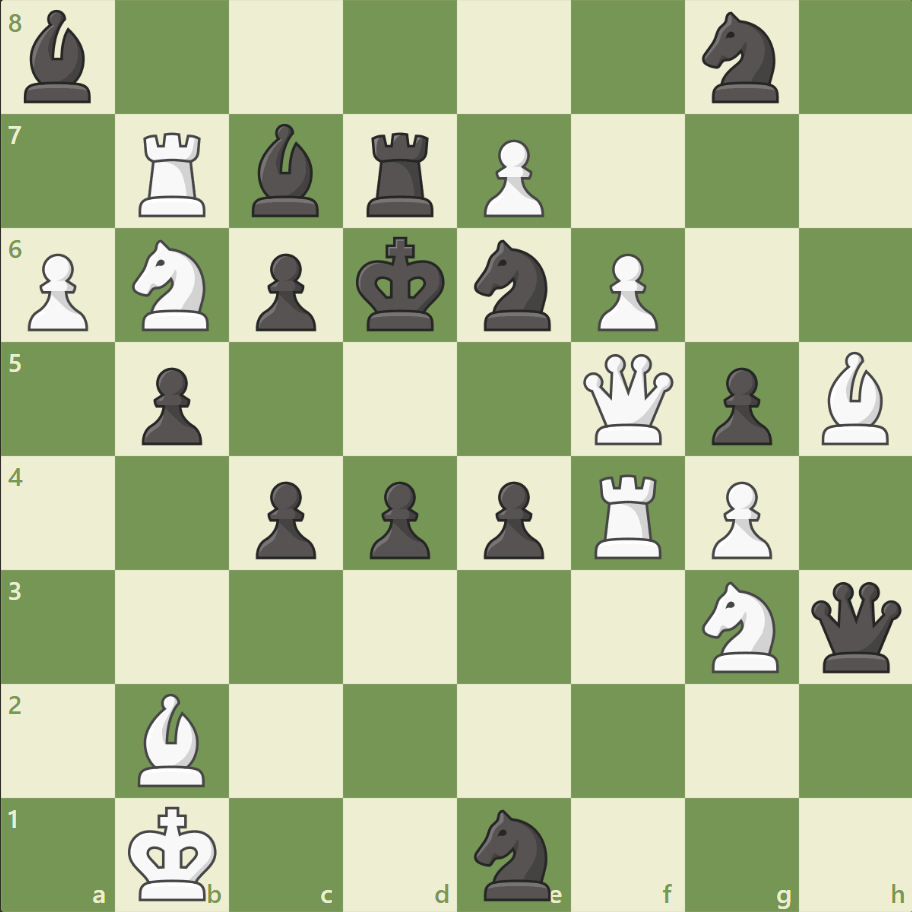B: (131, 687, 215, 790), (812, 347, 896, 449)
K: (124, 798, 224, 906)
N: (124, 234, 222, 337), (692, 575, 789, 677)
P: (474, 132, 549, 223), (20, 246, 95, 337), (701, 473, 776, 564), (588, 246, 662, 337)
Q: (578, 349, 677, 449)
R: (587, 466, 670, 563), (133, 125, 215, 222)
b: (17, 6, 101, 109), (244, 120, 328, 222)
k: (351, 231, 451, 339)
n: (692, 7, 789, 110), (465, 234, 562, 337), (465, 802, 562, 904)
p: (247, 246, 322, 337), (133, 359, 208, 450), (701, 359, 776, 450), (247, 473, 322, 564), (474, 473, 549, 564), (361, 473, 435, 564)
q: (805, 576, 904, 676)
r: (360, 125, 442, 222)
